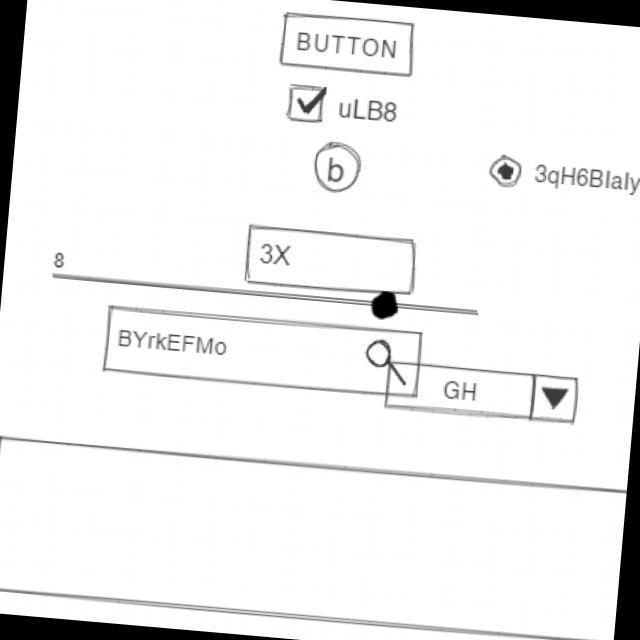button: (277, 10, 421, 83)
checkbox: (283, 79, 401, 134)
container: (1, 429, 627, 640)
icon-button: (311, 139, 367, 197)
input: (242, 220, 422, 299)
radio: (486, 151, 640, 202)
search: (101, 302, 429, 401)
select: (381, 358, 583, 430)
slider: (71, 263, 485, 330)
